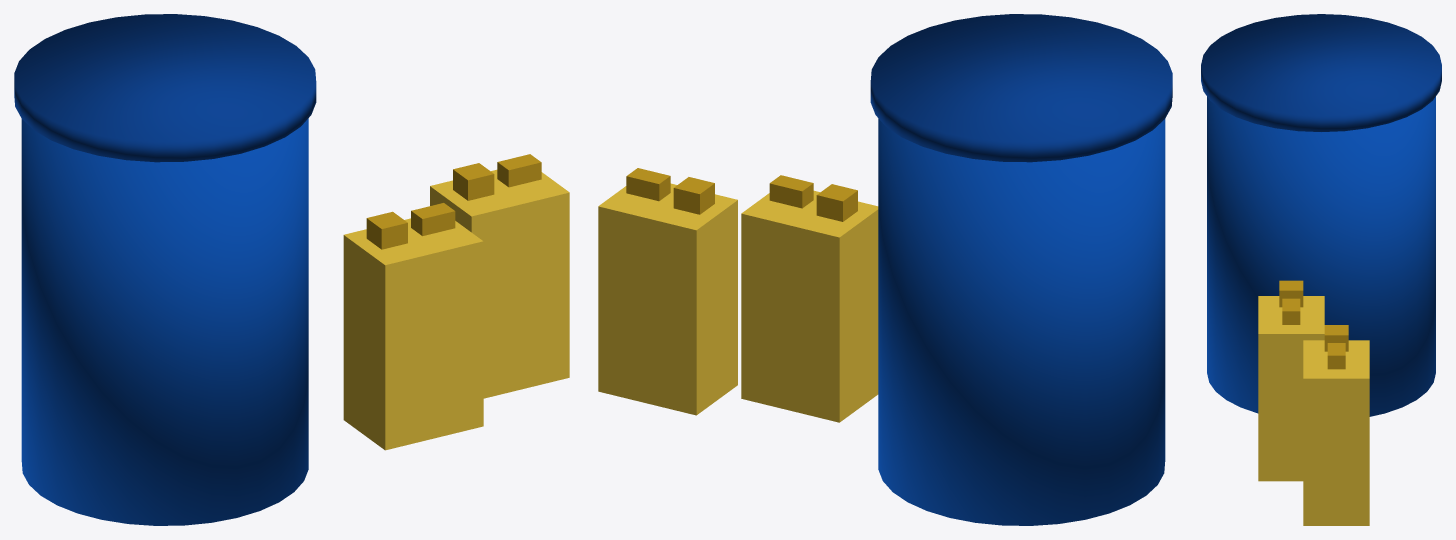
The model's file is shop-drum.glb.
3 renders of one model, left to right at view 1: azimuth 30°, elevation 25°; view 2: azimuth 150°, elevation 25°; view 3: azimuth 270°, elevation 25°, orthographic. The views are drawn at different scales.
Visible parts, largest first — view 1: Barrel, BarrelRim, Jerrycan, Jerrycan.001, JerryCap, JerryCap.001, JerryHandle.001, JerryHandle; view 2: Barrel, BarrelRim, Jerrycan.001, Jerrycan, JerryCap, JerryCap.001, JerryHandle, JerryHandle.001; view 3: Barrel, BarrelRim, Jerrycan.001, Jerrycan, JerryCap, JerryCap.001, JerryHandle, JerryHandle.001.
Boxes of the visible parts, x1,y1,x2,y2 form: Barrel: [21, 118, 308, 525]; BarrelRim: [14, 14, 316, 162]; Jerrycan: [343, 218, 483, 450]; Jerrycan.001: [430, 169, 569, 398]; JerryCap: [366, 211, 407, 249]; JerryCap.001: [453, 163, 494, 200]; JerryHandle.001: [497, 154, 541, 187]; JerryHandle: [411, 203, 455, 236]; Barrel: [878, 118, 1165, 525]; BarrelRim: [870, 14, 1172, 162]; Jerrycan.001: [598, 183, 737, 415]; Jerrycan: [741, 190, 878, 422]; JerryCap: [816, 184, 857, 221]; JerryCap.001: [673, 177, 714, 214]; JerryHandle: [769, 175, 813, 208]; JerryHandle.001: [626, 168, 670, 201]; Barrel: [1207, 96, 1435, 416]; BarrelRim: [1201, 14, 1441, 131]; Jerrycan.001: [1303, 340, 1369, 525]; Jerrycan: [1258, 296, 1324, 481]; JerryCap: [1279, 280, 1303, 307]; JerryCap.001: [1324, 325, 1348, 351]; JerryHandle: [1282, 298, 1300, 324]; JerryHandle.001: [1327, 343, 1345, 369].
Bounding box in the file's own units: 1.6 × 1.13 × 0.8.
